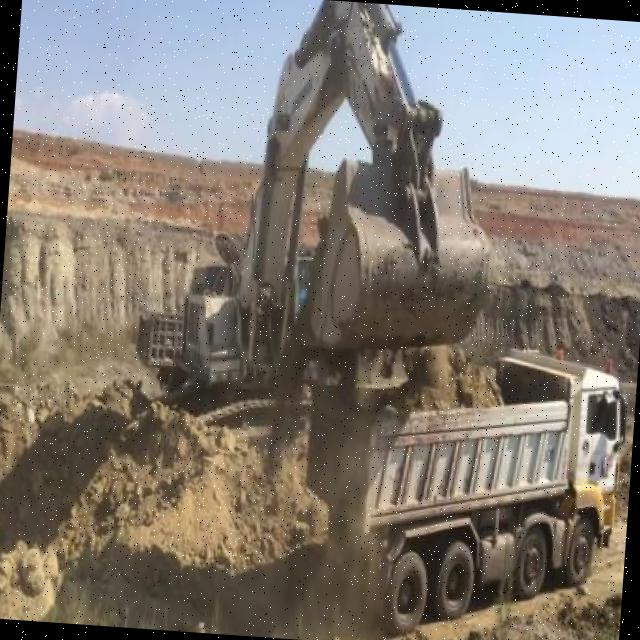Dump Truck: (292, 331, 633, 640)
Excavator: (161, 0, 512, 444)
